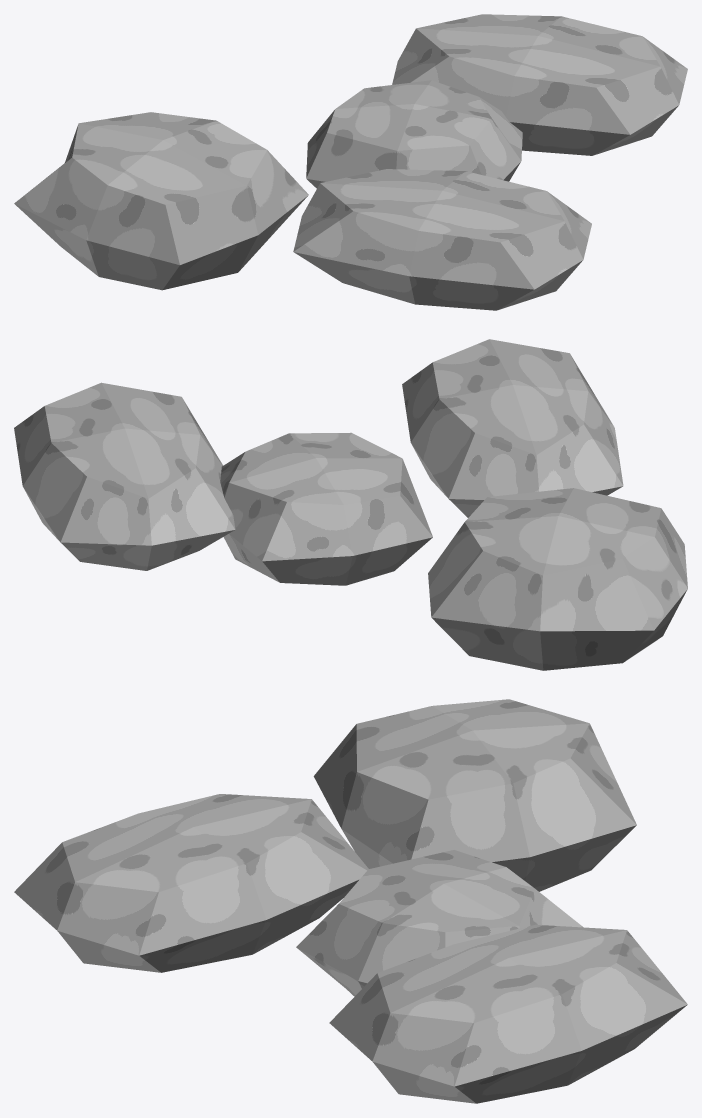
The model's file is stoneWorkshopMaterial1.fbx.
3 renders of one model, top to bottom at view 1: azimuth 30°, elevation 25°; view 2: azimuth 150°, elevation 25°; view 3: azimuth 270°, elevation 25°, orthographic. The views are drawn at different scales.
Parts seen in each view (by area): view 1: Pebble.001; view 2: Pebble.001; view 3: Pebble.001.
Boxes of the visible parts, x1,y1,x2,y2 form: Pebble.001: (14, 14, 687, 310); Pebble.001: (14, 339, 687, 670); Pebble.001: (14, 699, 687, 1103).
Bounding box in the file's own units: 73.57 × 11.95 × 57.18.
Materials: 2 (2 with a texture image).
